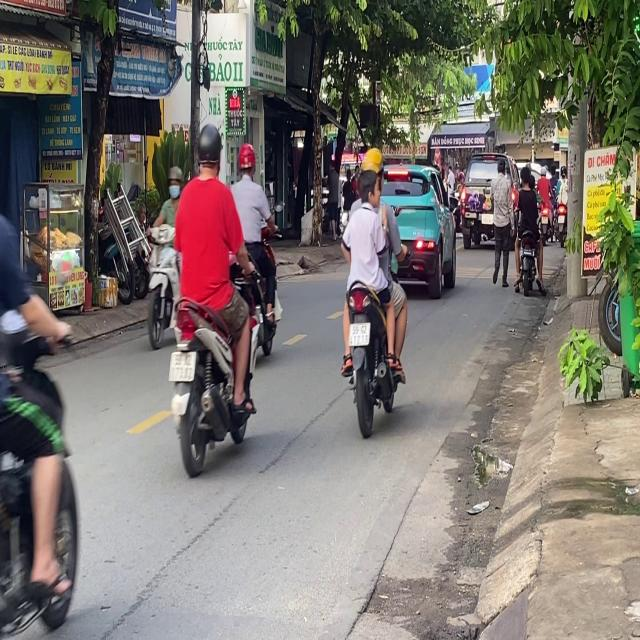helmet: (194, 120, 223, 175), (358, 146, 383, 203), (236, 142, 256, 178), (166, 165, 182, 198)
licenseplate: (165, 118, 260, 474), (336, 145, 410, 433), (228, 140, 281, 364), (143, 163, 179, 348)
motorcyclist: (356, 167, 381, 220)
nohelmet: (169, 351, 195, 380), (349, 321, 369, 344)
